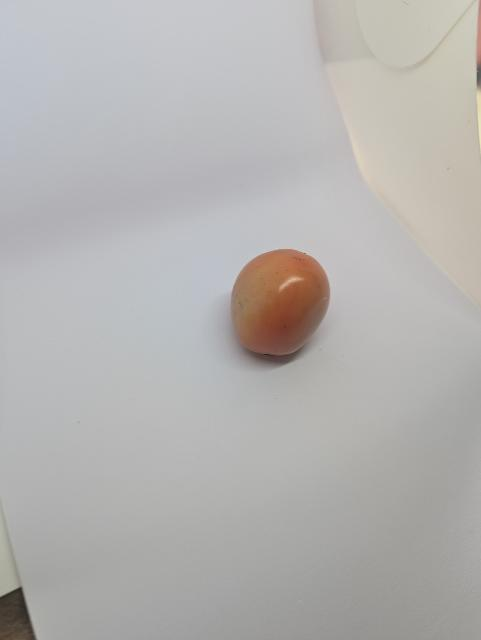turning: (226, 238, 336, 362)
